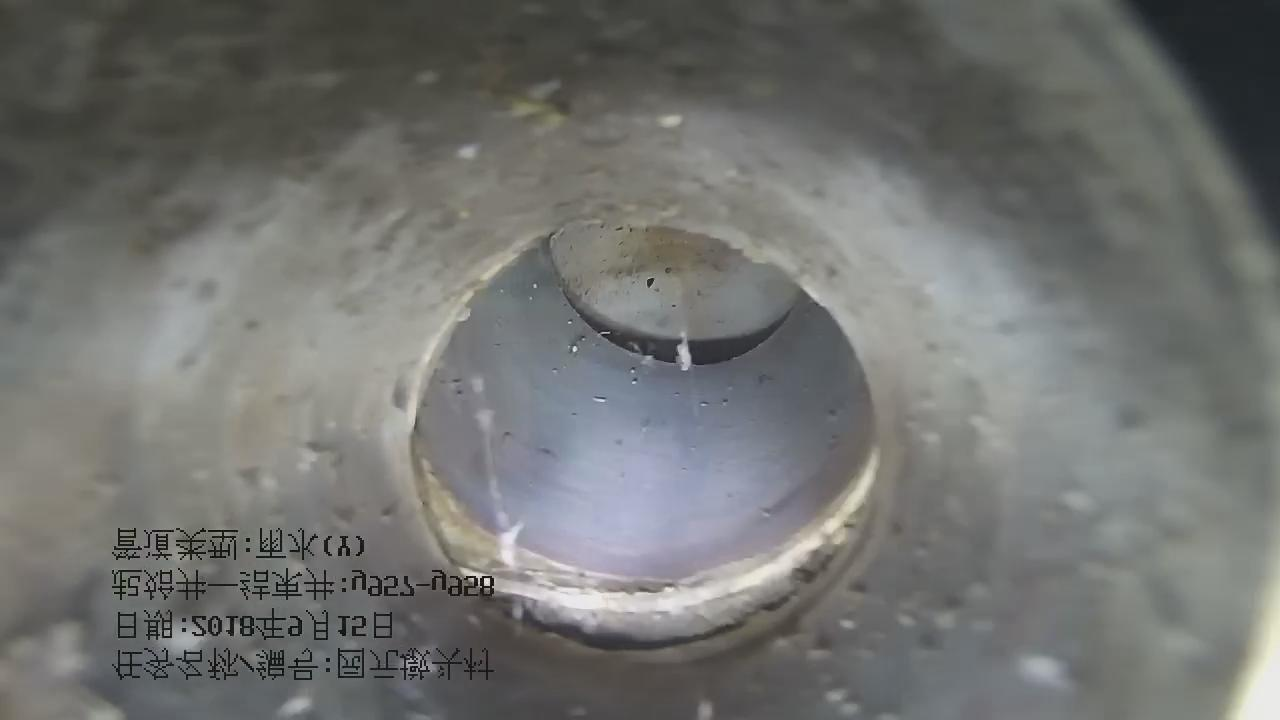CKTJ: (391, 419, 897, 665)
